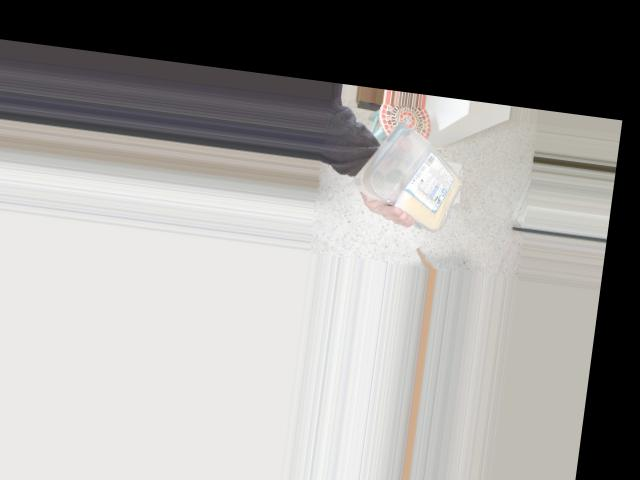cheese: (364, 118, 476, 223)
